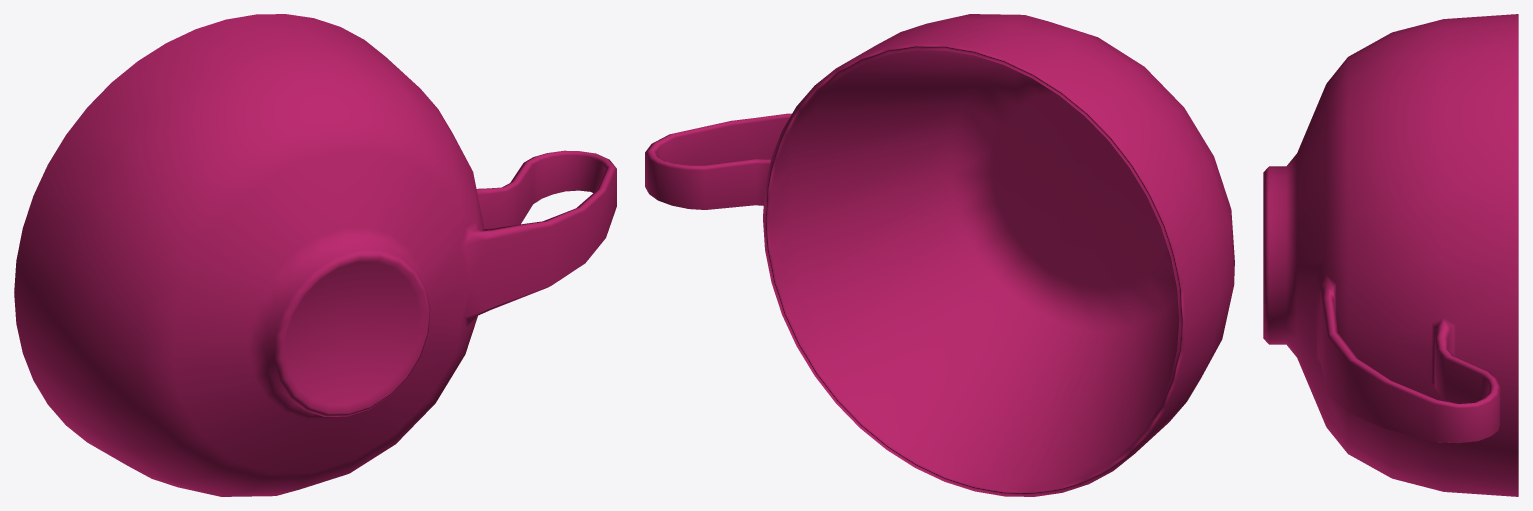
The model's file is SM_Dishes_17.fbx.
3 renders of one model, left to right at view 1: azimuth 30°, elevation 25°; view 2: azimuth 150°, elevation 25°; view 3: azimuth 270°, elevation 25°, orthographic.
Visible parts, largest first — view 1: SM_Dishes_17; view 2: SM_Dishes_17; view 3: SM_Dishes_17.
Boxes of the visible parts, x1,y1,x2,y2 form: SM_Dishes_17: [14, 14, 616, 496]; SM_Dishes_17: [645, 14, 1234, 496]; SM_Dishes_17: [1263, 14, 1518, 496].
Bounding box in the file's own units: 17.52 × 13.12 × 6.95.
